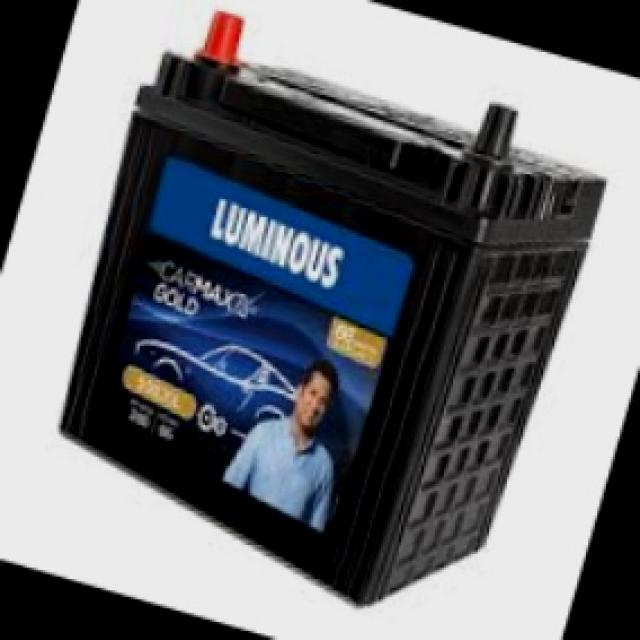elektronik: (65, 124, 589, 477), (480, 171, 602, 244)
